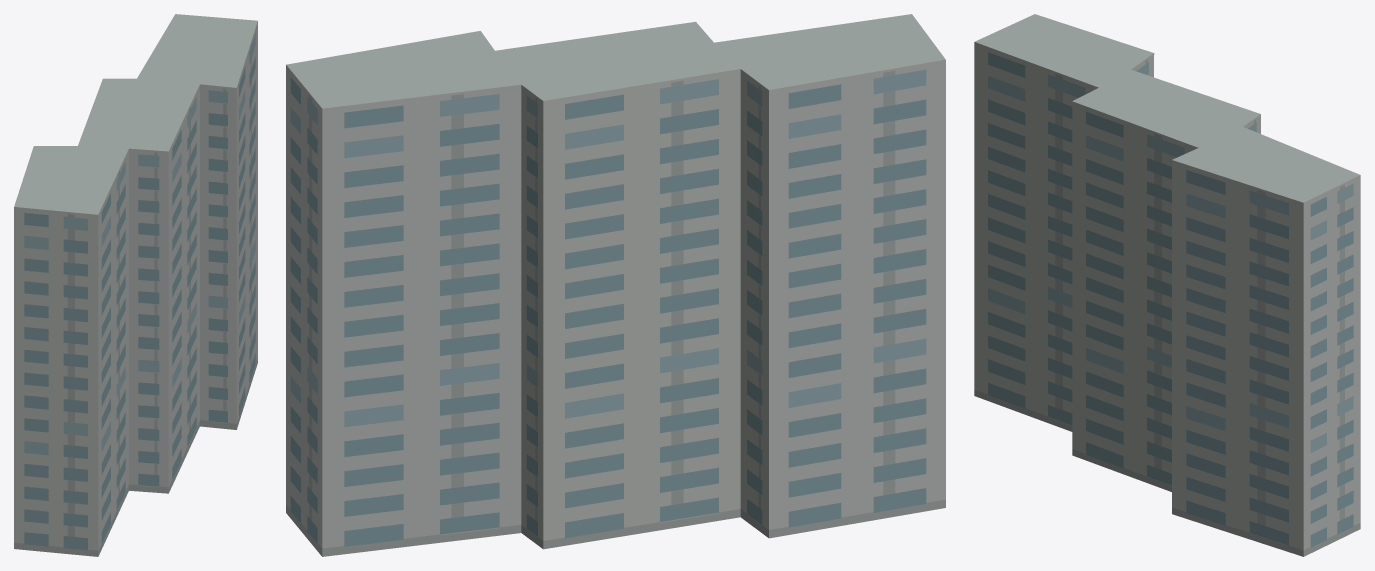
The model's file is residential-1928b164-a5a6-4854-b8be-56ecea0ba1ed.glb.
The picture shows the model from 3 angles, left to right: view 1: azimuth 30°, elevation 25°; view 2: azimuth 150°, elevation 25°; view 3: azimuth 270°, elevation 25°; orthographic projection. The views are drawn at different scales.
Visible parts, largest first — view 1: residential-1928b164-a5a6-4854-b8be-56ecea0ba1ed.tmp; view 2: residential-1928b164-a5a6-4854-b8be-56ecea0ba1ed.tmp; view 3: residential-1928b164-a5a6-4854-b8be-56ecea0ba1ed.tmp.
Part boxes in pixels (x1,y1,x2,y2): residential-1928b164-a5a6-4854-b8be-56ecea0ba1ed.tmp: (14,14,257,556); residential-1928b164-a5a6-4854-b8be-56ecea0ba1ed.tmp: (286,14,945,556); residential-1928b164-a5a6-4854-b8be-56ecea0ba1ed.tmp: (974,14,1360,556).
Bounding box in the file's own units: 52.3 × 45.75 × 45.22.
